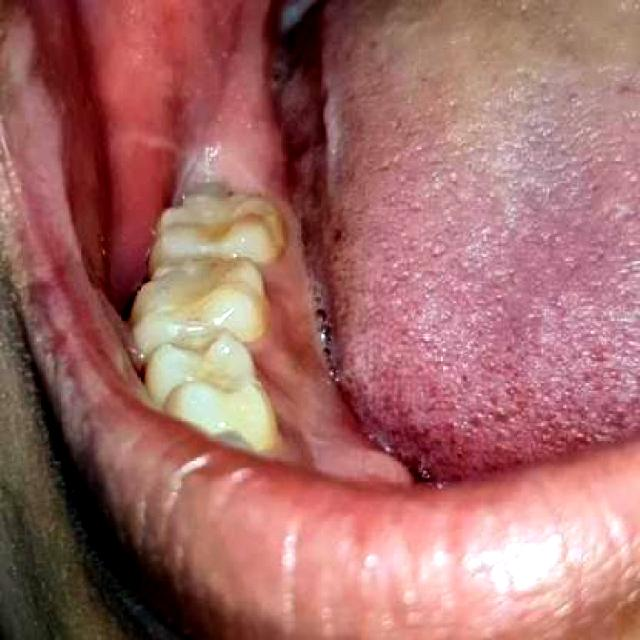Plaque: (239, 285, 307, 370)
